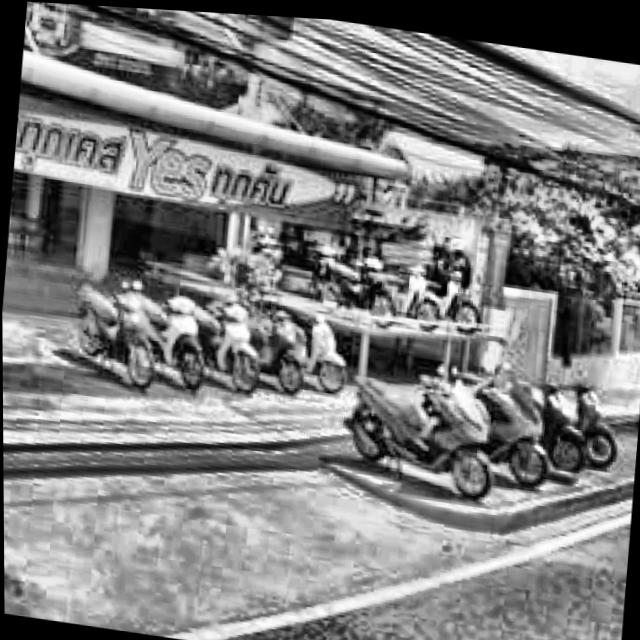motorcycle: (334, 357, 498, 499), (65, 266, 162, 392), (470, 365, 561, 480), (153, 283, 220, 396), (201, 290, 267, 395), (554, 365, 623, 465), (288, 294, 354, 398), (532, 364, 590, 467), (244, 294, 305, 390)
